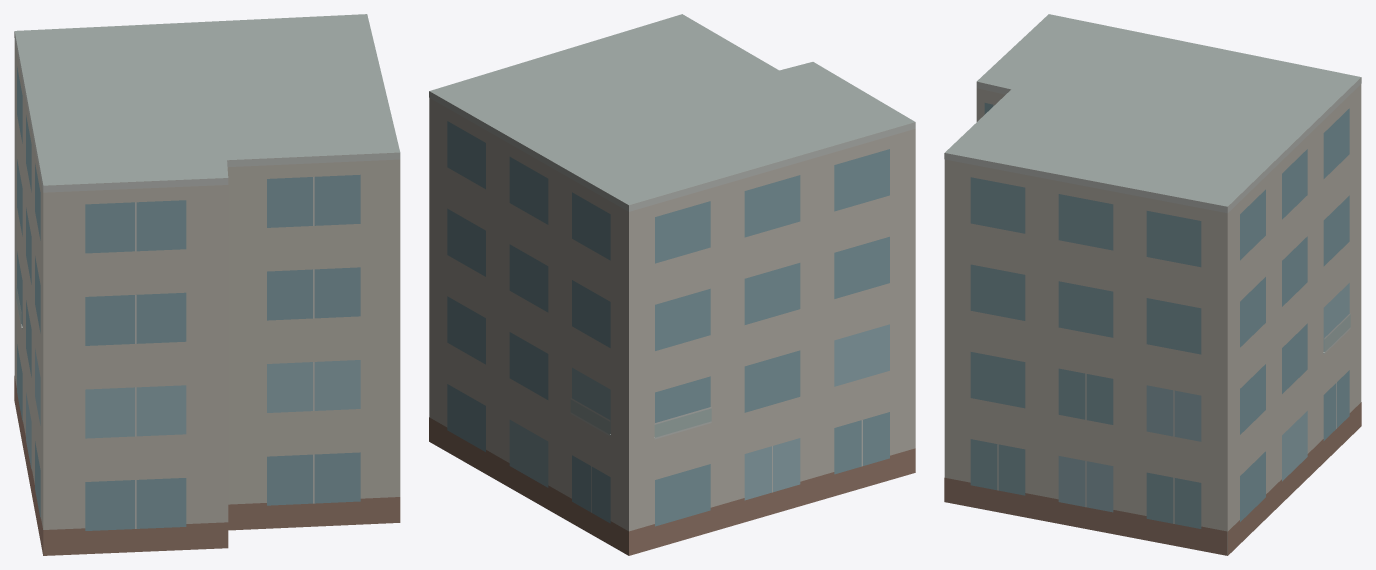
Rendered from survey-upis-32730199.glb.
The picture shows the model from 3 angles, left to right: view 1: azimuth 30°, elevation 25°; view 2: azimuth 150°, elevation 25°; view 3: azimuth 270°, elevation 25°; orthographic projection. The views are drawn at different scales.
Parts seen in each view (by area): view 1: survey-upis-32730199.tmp; view 2: survey-upis-32730199.tmp; view 3: survey-upis-32730199.tmp.
Part boxes in pixels (x1,y1,x2,y2): survey-upis-32730199.tmp: [14, 14, 400, 555]; survey-upis-32730199.tmp: [429, 14, 915, 555]; survey-upis-32730199.tmp: [944, 14, 1361, 555].
Bounding box in the file's own units: 15.28 × 12.9 × 13.97.
